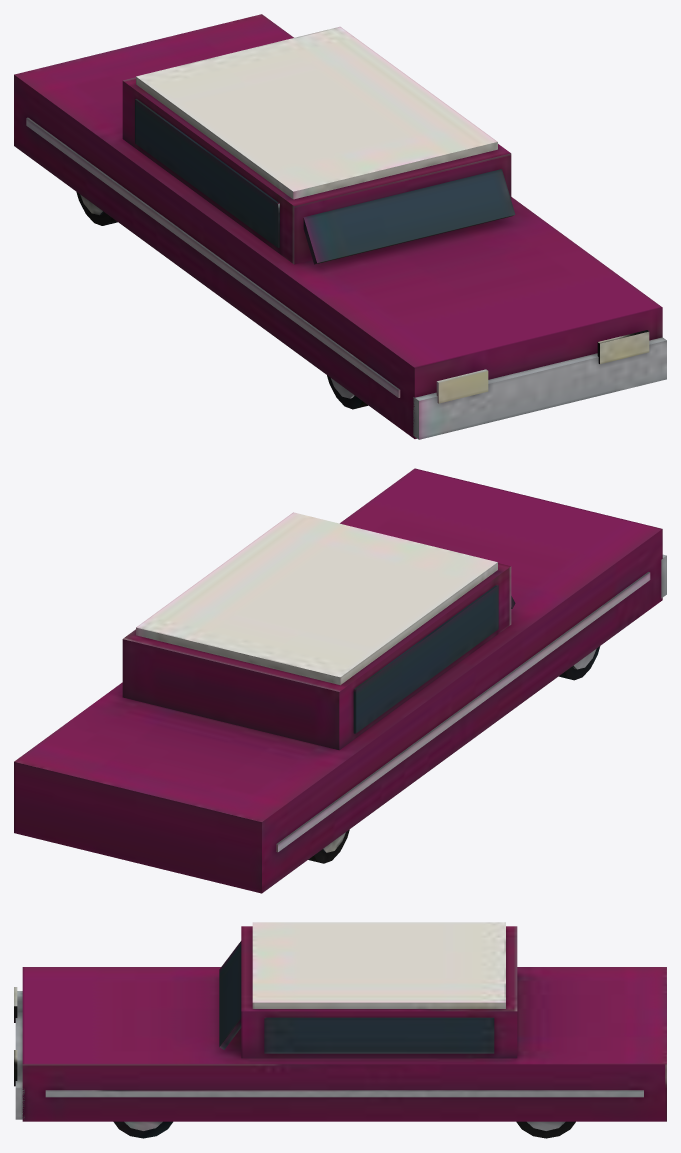
File: lowrider.glb
The picture shows the model from 3 angles, top to bottom: view 1: azimuth 30°, elevation 25°; view 2: azimuth 150°, elevation 25°; view 3: azimuth 270°, elevation 25°; orthographic projection. The views are drawn at different scales.
Visible parts, largest first — view 1: lowrider; view 2: lowrider; view 3: lowrider.
Part boxes in pixels (bbox=[...]): lowrider: bbox=[14, 14, 666, 439]; lowrider: bbox=[14, 468, 666, 893]; lowrider: bbox=[14, 922, 666, 1138].
Size of the model in its own units: 2.03 by 1.24 by 5.67.
Materials: 1 (1 with a texture image).
